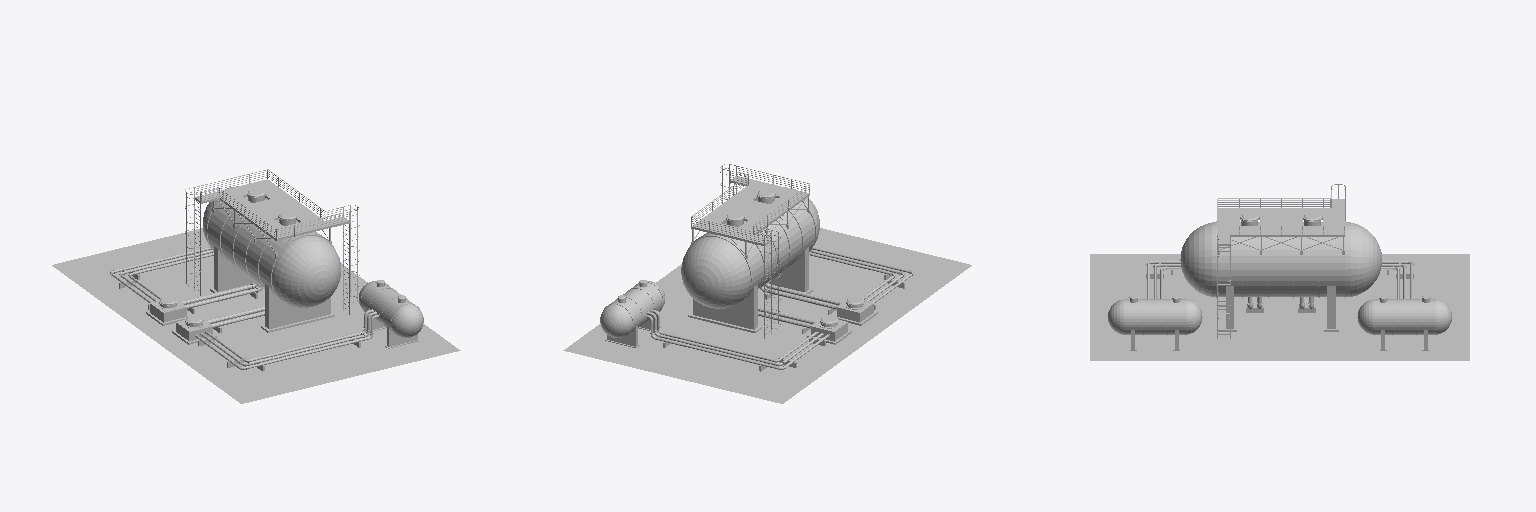
File: Industrial Silo_6_obj.obj
3 renders of one model, left to right at view 1: azimuth 30°, elevation 25°; view 2: azimuth 150°, elevation 25°; view 3: azimuth 270°, elevation 25°, orthographic.
Visible parts, largest first — view 1: IS06_OBJ_05, IS06_OBJ_06, IS06_OBJ_04, IS06_OBJ_01, IS06_OBJ_03, IS06_OBJ_02; view 2: IS06_OBJ_05, IS06_OBJ_06, IS06_OBJ_04, IS06_OBJ_01, IS06_OBJ_03, IS06_OBJ_02; view 3: IS06_OBJ_05, IS06_OBJ_06, IS06_OBJ_01, IS06_OBJ_04, IS06_OBJ_03.
Part boxes in pixels (left/top/right/bottom): IS06_OBJ_05: left=52, top=228, right=460, bottom=403; IS06_OBJ_06: left=203, top=186, right=423, bottom=348; IS06_OBJ_04: left=110, top=247, right=379, bottom=371; IS06_OBJ_01: left=195, top=179, right=348, bottom=258; IS06_OBJ_03: left=195, top=169, right=349, bottom=240; IS06_OBJ_02: left=185, top=187, right=359, bottom=314; IS06_OBJ_05: left=563, top=228, right=971, bottom=403; IS06_OBJ_06: left=600, top=187, right=819, bottom=347; IS06_OBJ_04: left=644, top=247, right=913, bottom=371; IS06_OBJ_01: left=691, top=176, right=809, bottom=258; IS06_OBJ_03: left=691, top=166, right=809, bottom=242; IS06_OBJ_02: left=720, top=164, right=780, bottom=338; IS06_OBJ_05: left=1090, top=254, right=1469, bottom=360; IS06_OBJ_06: left=1108, top=213, right=1451, bottom=350; IS06_OBJ_01: left=1218, top=199, right=1344, bottom=254; IS06_OBJ_04: left=1146, top=260, right=1413, bottom=312; IS06_OBJ_03: left=1217, top=190, right=1344, bottom=236.
Bounding box in the file's own units: 720 × 326 × 1080.